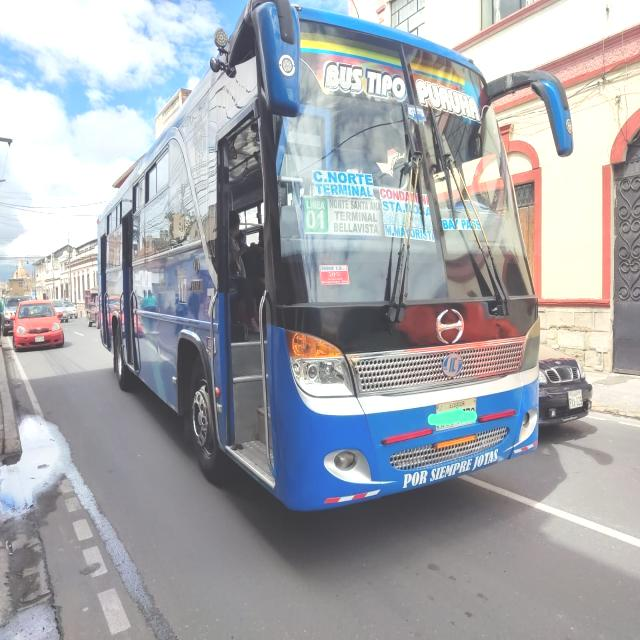BUS: (93, 0, 546, 509)
